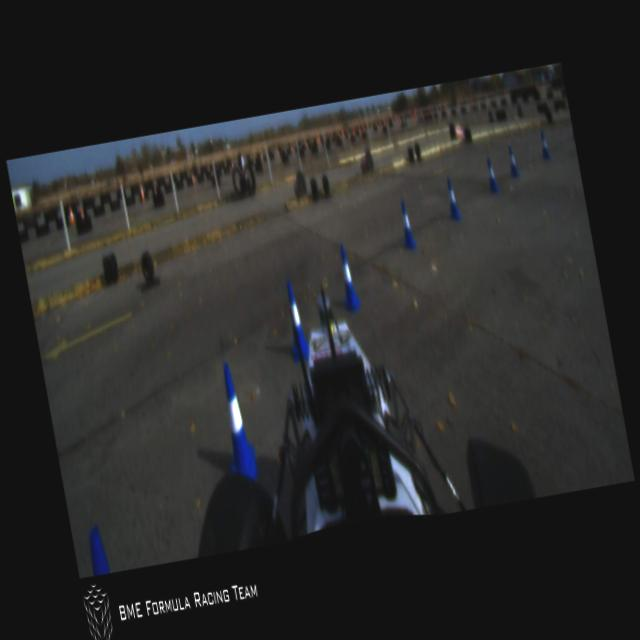blue_cone: (212, 361, 260, 486), (279, 280, 311, 360), (332, 242, 362, 316), (396, 198, 416, 250), (442, 177, 461, 220), (482, 156, 498, 191), (504, 146, 518, 178), (538, 130, 550, 158)
